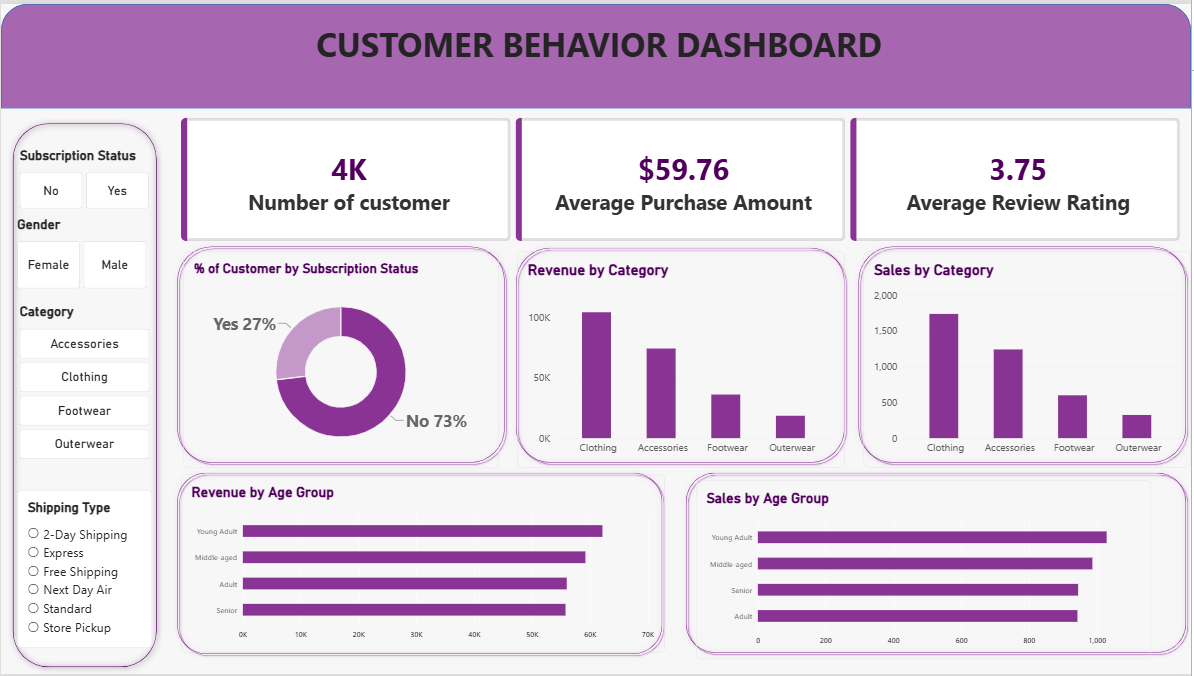

What the dashboard file says about the page in this screenshot:
{"tool":"powerbi","page":{"name":"Page 1","canvas":[1920,1080],"ordinal":0},"visuals":[{"type":"shape","box":[0,0,1920.4,168.8],"z":0},{"type":"textbox","box":[10.3,28.8,1910.1,100.9],"z":1000},{"type":"cardVisual","fields":{"Data":["public customer.Number of customer","public customer.Average Purchase Amount","public customer.Average Review Rating"]},"box":[290.2,183.2,1613.7,199.7],"z":2000},{"type":"shape","box":[276.4,383.3,544.7,365.1],"z":2001},{"type":"donutChart","title":"% of Customer by Subscription Status","fields":{"Category":["public customer.subscription_status"],"Y":["Count(public customer.customer_id)"]},"box":[294.5,399.4,508.4,349.9],"z":2002},{"type":"shape","box":[823,385.3,546.7,363.1],"z":2003},{"type":"shape","box":[1375.8,383.3,544.7,365.1],"z":2004},{"type":"clusteredColumnChart","title":"Revenue by Category","fields":{"Category":["public customer.category"],"Y":["Sum(public customer.purchase_amount)"]},"box":[833.1,399.4,528.5,349],"z":2005},{"type":"clusteredColumnChart","title":"Sales by Category","fields":{"Category":["public customer.category"],"Y":["CountNonNull(public customer.customer_id)"]},"box":[1391.9,399.4,528.5,349],"z":2006},{"type":"shape","box":[10.1,183.6,250.1,895.7],"z":2007},{"type":"advancedSlicerVisual","title":"Subscription Status","fields":{"Values":["public customer.subscription_status"]},"box":[30.3,232,209.8,98.8],"z":2008},{"type":"advancedSlicerVisual","title":"Gender","fields":{"Values":["public customer.gender"]},"box":[26.2,342.9,209.8,117],"z":2009},{"type":"advancedSlicerVisual","title":"Category","fields":{"Values":["public customer.category"]},"box":[30.3,484.1,209.8,250.1],"z":2010},{"type":"listSlicer","title":"Shipping Type","fields":{"Values":["public customer.shipping_type"]},"box":[26.2,784.7,217.9,254.2],"z":2011},{"type":"clusteredBarChart","title":"Revenue by Age Group","fields":{"Category":["public customer.age_group"],"Y":["Sum(public customer.purchase_amount)"]},"box":[290.5,758.5,780.7,288.5],"z":2012},{"type":"shape","box":[276.4,748.4,798.8,308.6],"z":2013},{"type":"shape","box":[1097.4,748.4,823,306.6],"z":2014},{"type":"clusteredBarChart","title":"Sales by Age Group","fields":{"Category":["public customer.age_group"],"Y":["CountNonNull(public customer.customer_id)"]},"box":[1121.6,768.6,734.3,288.5],"z":2015}]}

Visuals, with their boxes in screenshot pixels (x1, y1, x2, y2), scaled from the page's 1920x1080 canvas onto the 1194x676 screenshot:
shape: 0,0,1193,106
textbox: 6,18,1193,81
cardVisual - public customer.Number of customer x public customer.Average Purchase Amount: 180,115,1184,240
shape: 172,240,511,468
"% of Customer by Subscription Status" donutChart: 183,250,499,469
shape: 512,241,852,468
shape: 856,240,1193,468
"Revenue by Category" clusteredColumnChart: 518,250,847,468
"Sales by Category" clusteredColumnChart: 866,250,1193,468
shape: 6,115,162,675
"Subscription Status" advancedSlicerVisual: 19,145,149,207
"Gender" advancedSlicerVisual: 16,215,147,288
"Category" advancedSlicerVisual: 19,303,149,460
"Shipping Type" listSlicer: 16,491,152,650
"Revenue by Age Group" clusteredBarChart: 181,475,666,655
shape: 172,468,669,662
shape: 682,468,1193,660
"Sales by Age Group" clusteredBarChart: 697,481,1154,662
